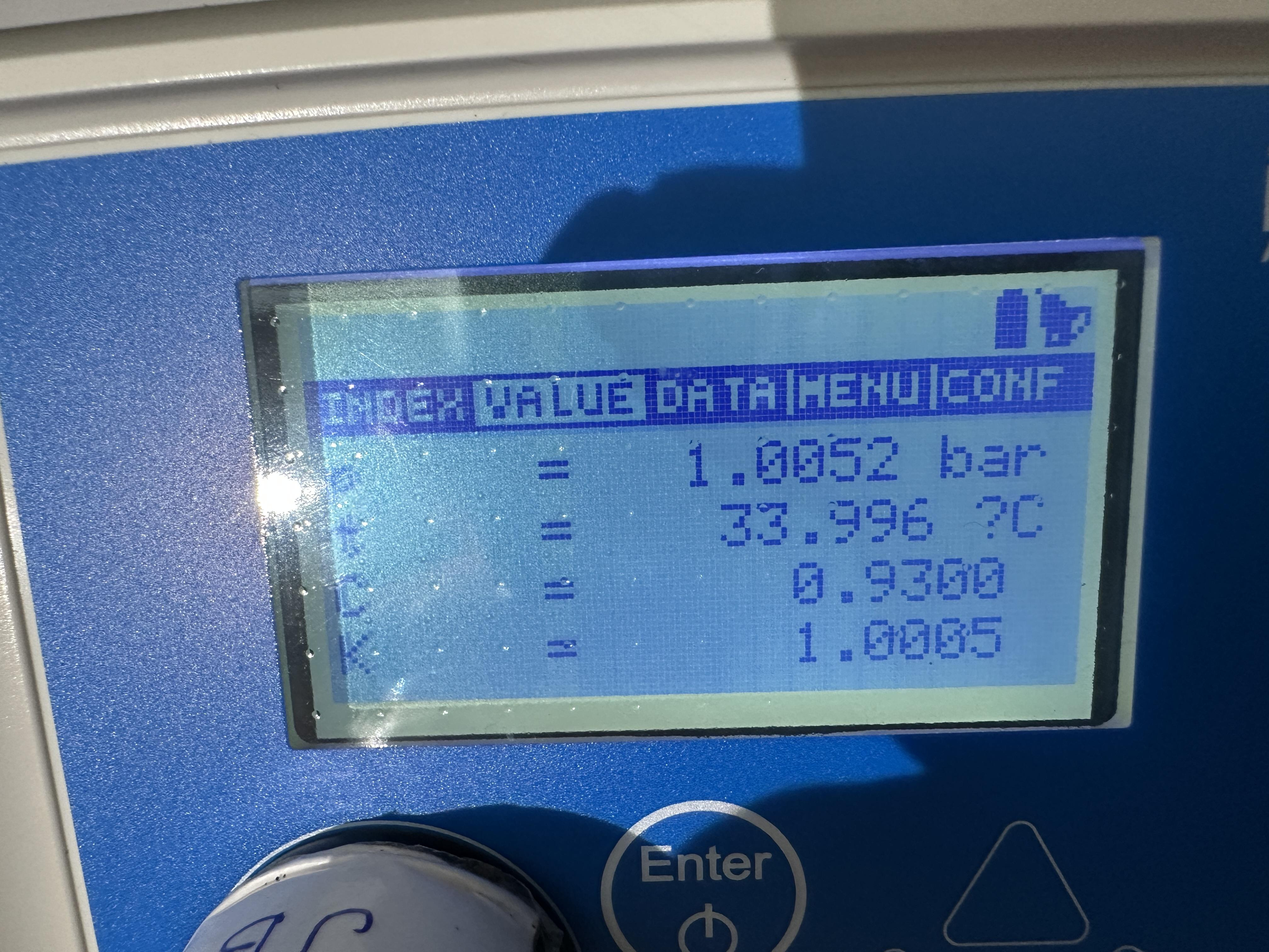digital_screen: (278, 271, 1136, 750)
